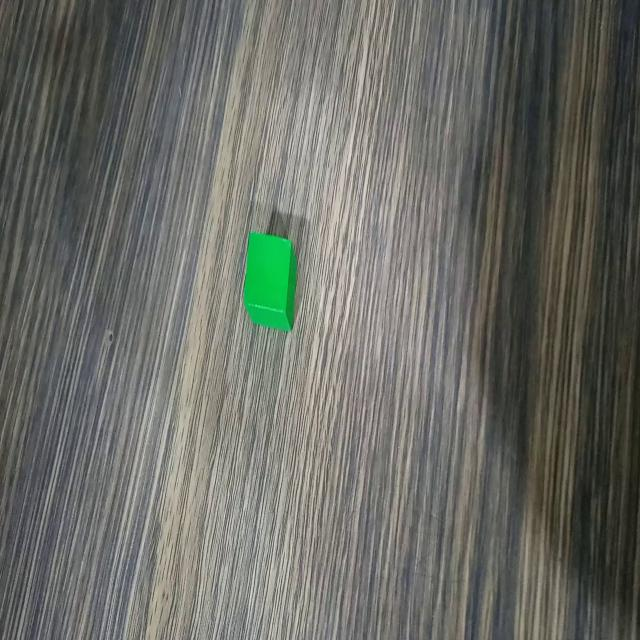cube: (240, 225, 300, 336)
